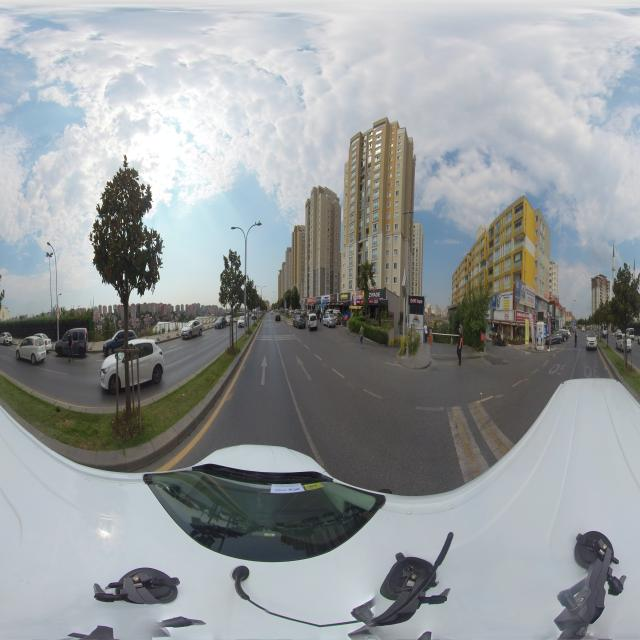SignStore: (367, 291, 380, 302), (337, 292, 349, 301), (308, 297, 315, 303), (357, 298, 364, 304), (329, 295, 335, 301), (323, 295, 329, 301), (316, 297, 321, 303), (301, 299, 304, 304), (305, 298, 307, 305)
